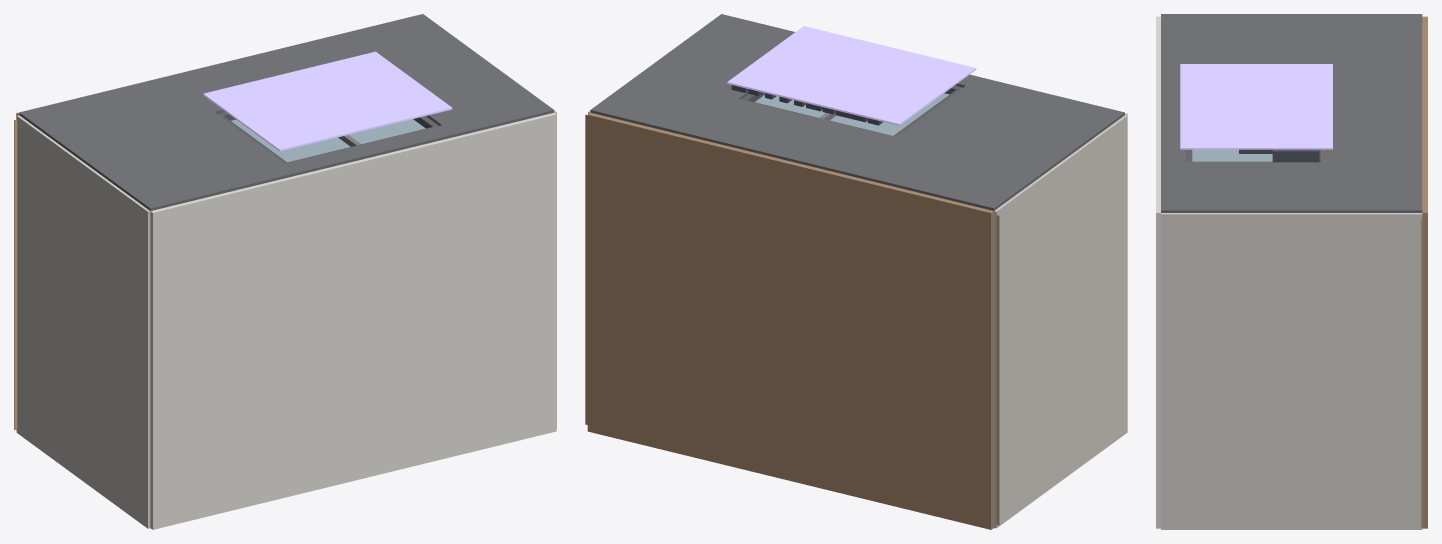
Rendered from developer_room_concept_v4.glb.
The picture shows the model from 3 angles, left to right: view 1: azimuth 30°, elevation 25°; view 2: azimuth 150°, elevation 25°; view 3: azimuth 270°, elevation 25°; orthographic projection.
Parts seen in each view (by area): view 1: ceiling, wall_left, wall_back, sky_panel, wall_back_right, wall_back_below_window, wall_back_above_window, window_glass, floor_plank_0; view 2: room_floor, wall_left, wall_back, sky_panel, wall_back_right, wall_back_below_window, window_glass, floor_plank_0, floor_plank_19; view 3: wall_right, wall_back, wall_back_right, sky_panel, wall_back_below_window, room_floor, ceiling, wall_back_above_window, window_glass, city_building_9.
Boxes of the visible parts, x1,y1,x2,y2 form: ceiling: (150,112,556,529); wall_left: (16,115,150,528); wall_back: (19,77,297,210); sky_panel: (203,51,452,151); wall_back_right: (324,14,554,136); wall_back_below_window: (166,38,349,113); wall_back_above_window: (285,125,454,175); window_glass: (231,119,425,162); floor_plank_0: (14,119,17,430); room_floor: (587,112,993,529); wall_left: (994,115,1127,528); wall_back: (847,76,1124,210); sky_panel: (727,26,976,125); wall_back_right: (590,14,794,136); wall_back_below_window: (690,99,895,174); window_glass: (755,93,949,135); floor_plank_0: (996,215,999,525); floor_plank_19: (585,114,587,424); wall_right: (1161,213,1422,529); wall_back: (1161,14,1422,85); wall_back_right: (1161,162,1422,212); sky_panel: (1180,64,1332,149); wall_back_below_window: (1326,85,1422,161); room_floor: (1422,16,1427,528); ceiling: (1156,16,1160,528); wall_back_above_window: (1161,85,1185,161); window_glass: (1192,149,1272,161); city_building_9: (1272,149,1319,162).
Size of the model in its own units: 4.93 by 3.84 by 2.81.
